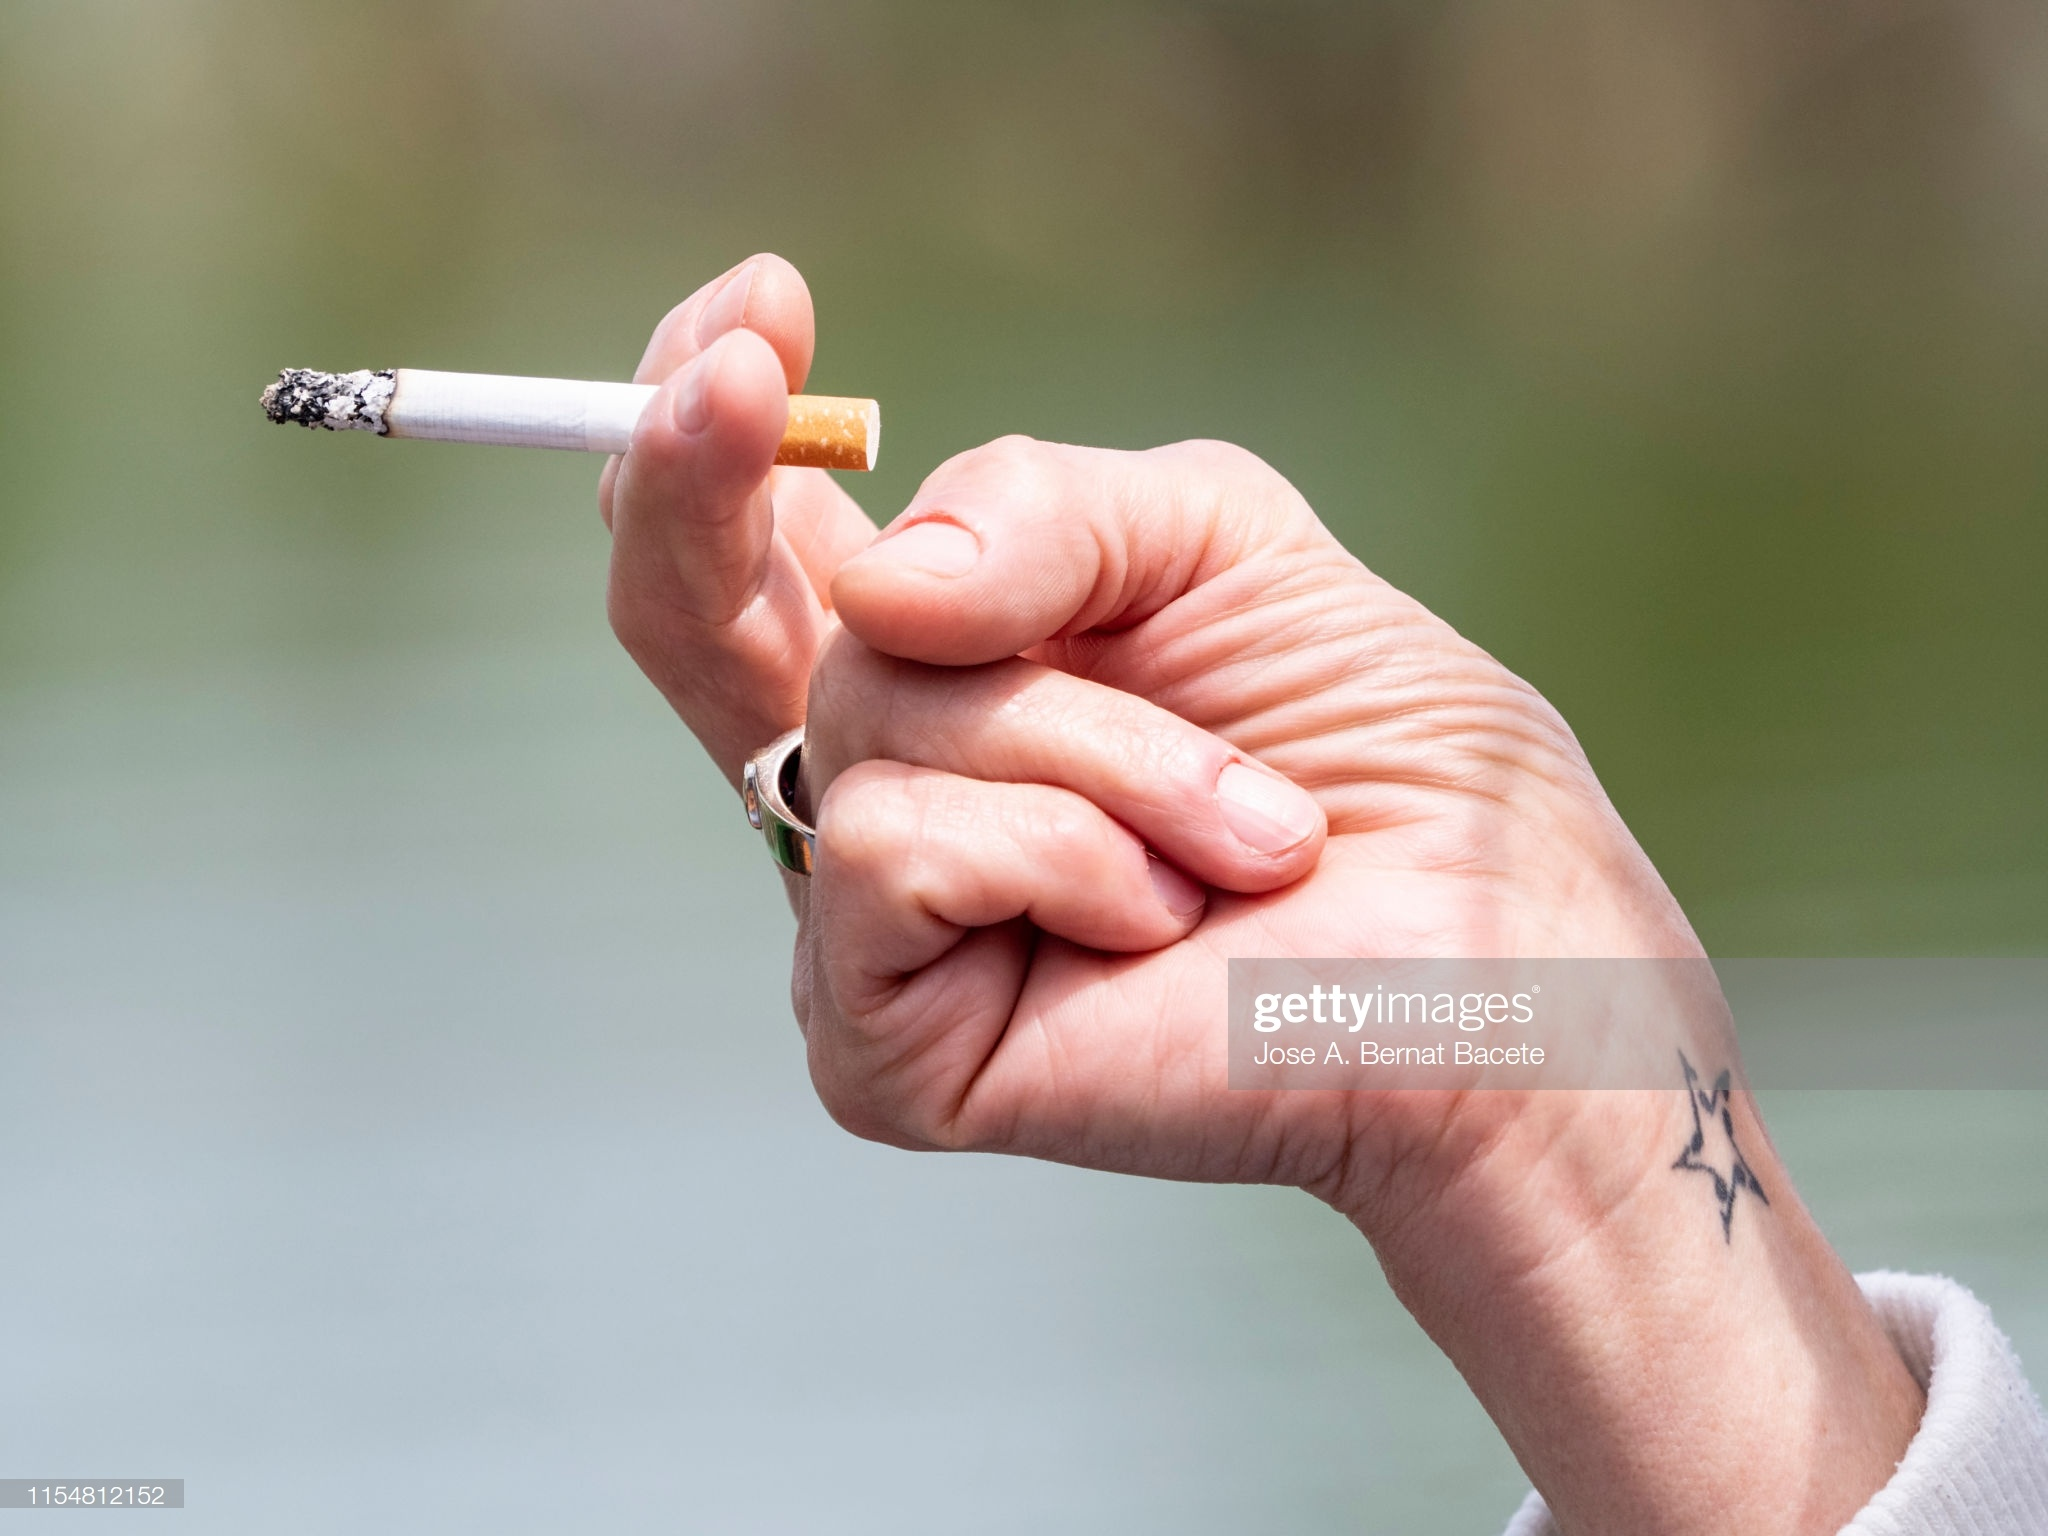sigaretta: (247, 379, 876, 458)
